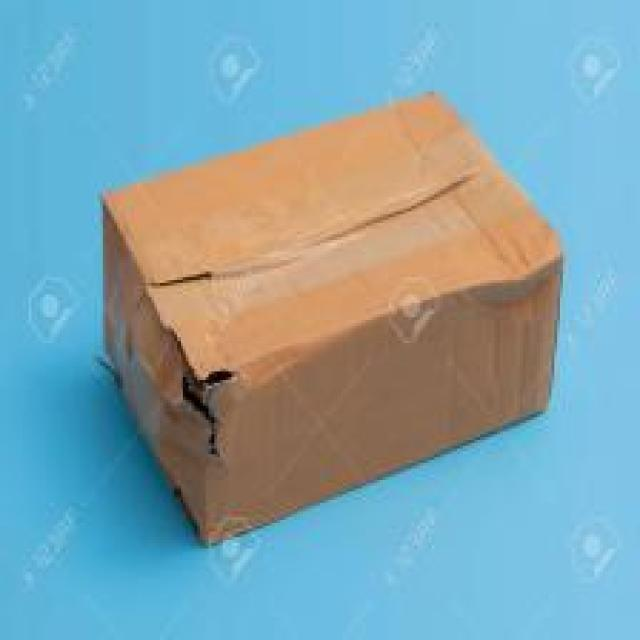tear: (159, 339, 239, 447), (459, 242, 569, 318)
